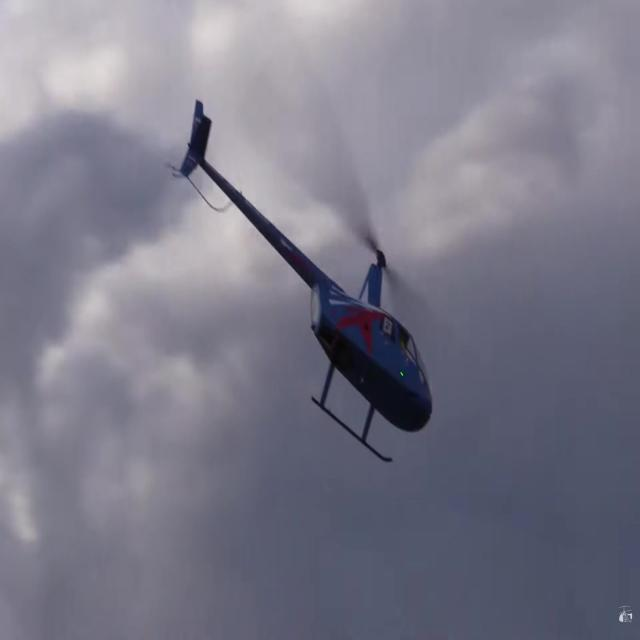CIV_HELO: (177, 96, 434, 467)
